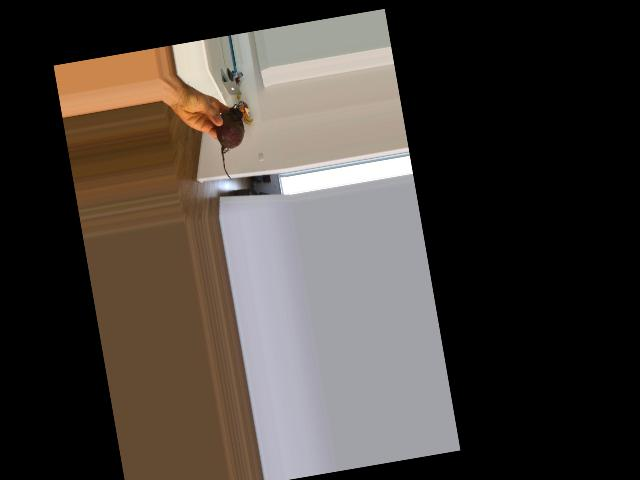beet: (212, 103, 253, 181)
